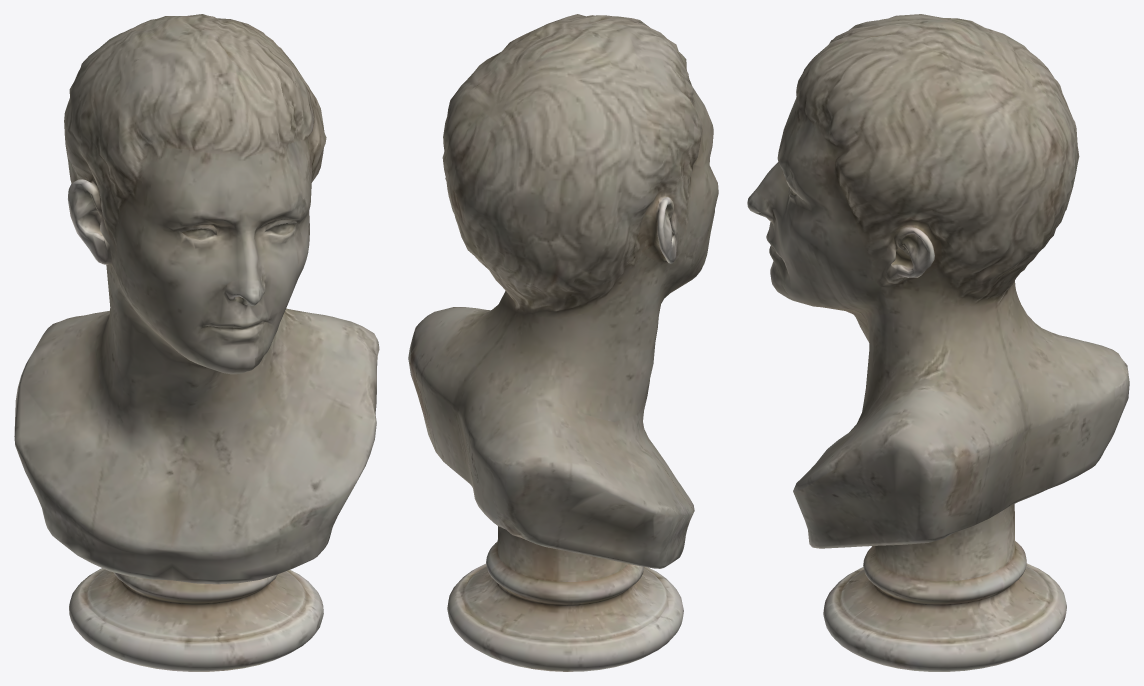
The model's file is marble_bust_01.glb.
3 renders of one model, left to right at view 1: azimuth 30°, elevation 25°; view 2: azimuth 150°, elevation 25°; view 3: azimuth 270°, elevation 25°, orthographic. The views are drawn at different scales.
Parts seen in each view (by area): view 1: marble_bust_01; view 2: marble_bust_01; view 3: marble_bust_01.
Boxes of the visible parts, x1,y1,x2,y2 form: marble_bust_01: [14, 14, 379, 671]; marble_bust_01: [408, 14, 718, 671]; marble_bust_01: [747, 14, 1129, 671].
Bounding box in the file's own units: 0.2718 × 0.5149 × 0.2997.
Materials: 1 (1 with a texture image).
